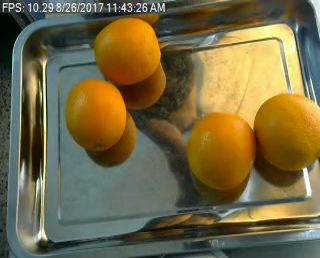Orange: (187, 111, 255, 190), (254, 93, 320, 172), (94, 16, 161, 84), (65, 78, 127, 151)
